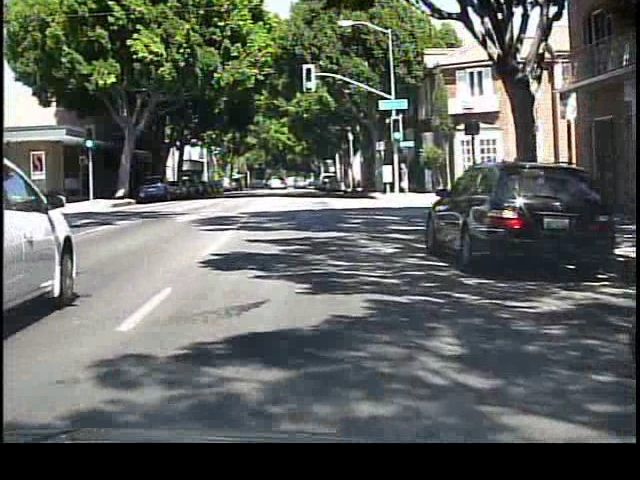person: (396, 157, 414, 197)
